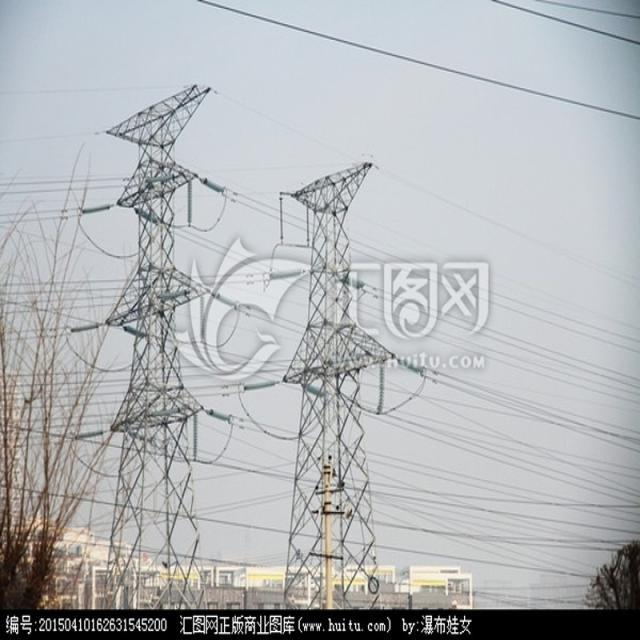non-critical vegetation: (80, 76, 236, 604), (266, 150, 401, 612)
